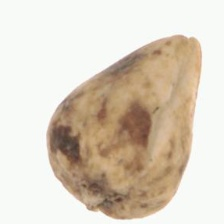L1: (57, 172, 122, 221), (167, 33, 202, 57)
L2: (46, 33, 202, 220)
